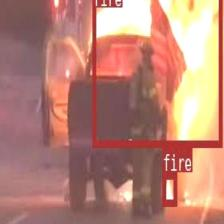fire: (92, 0, 222, 146), (162, 172, 176, 206)
